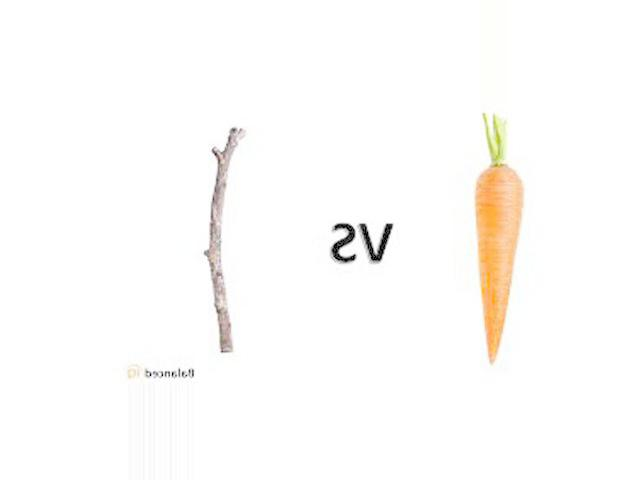carrot: (465, 154, 526, 371)
